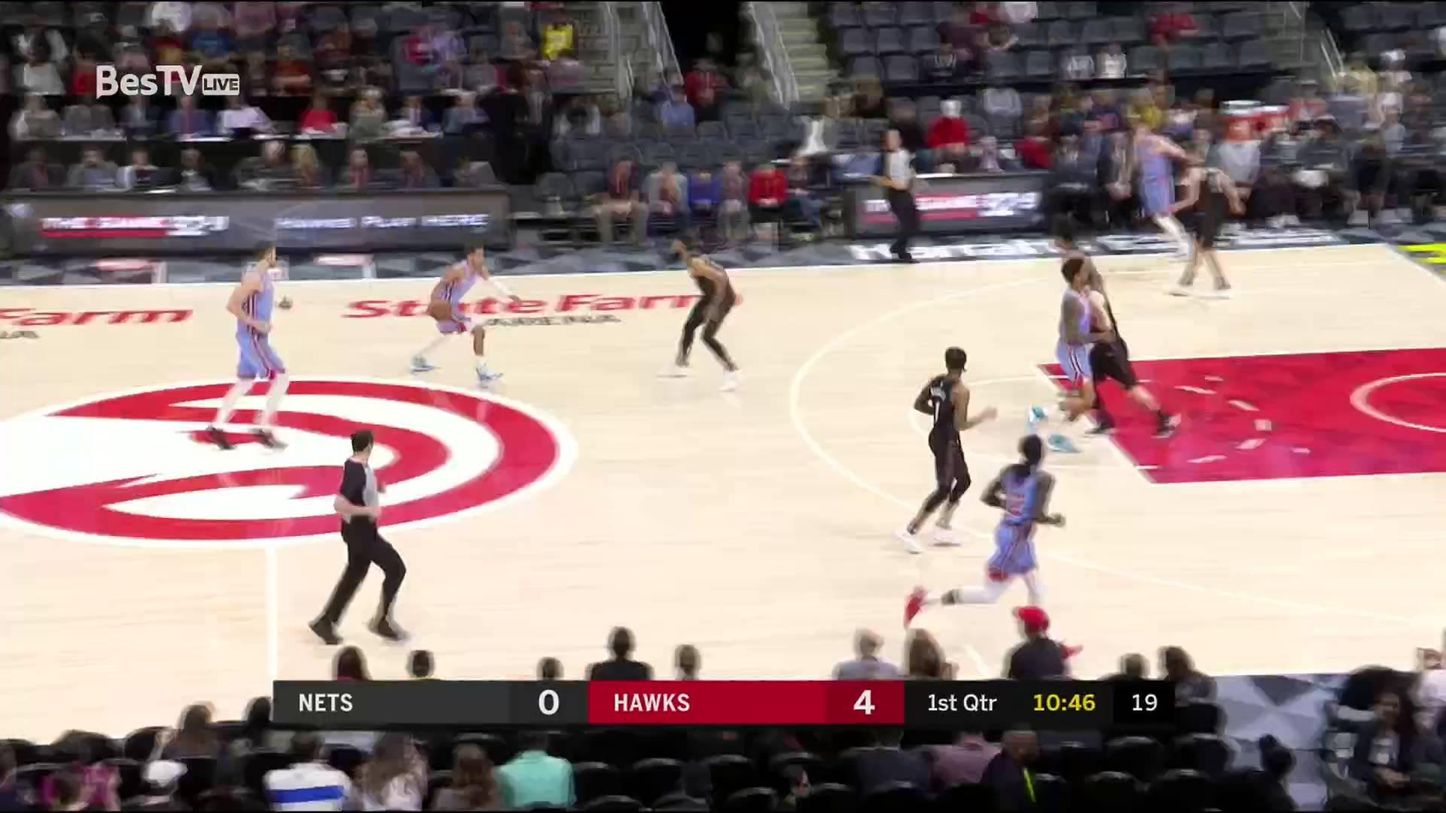basketball: (427, 295, 451, 325)
